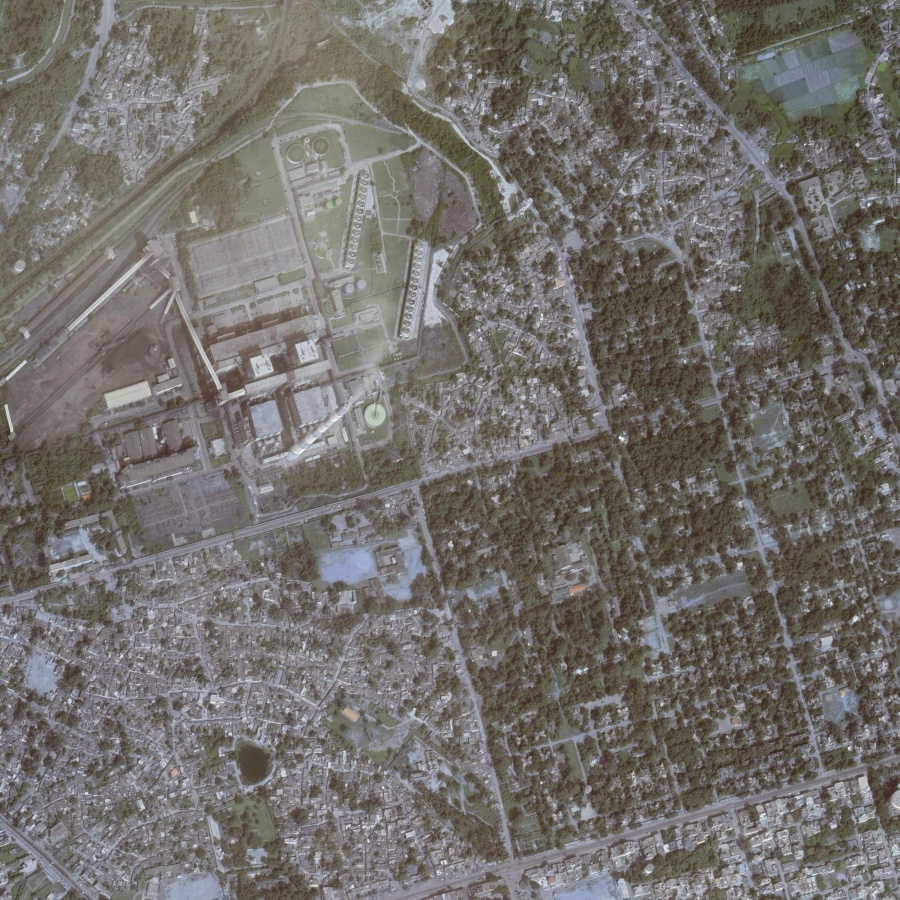PowerPlant: (1, 130, 443, 484)
